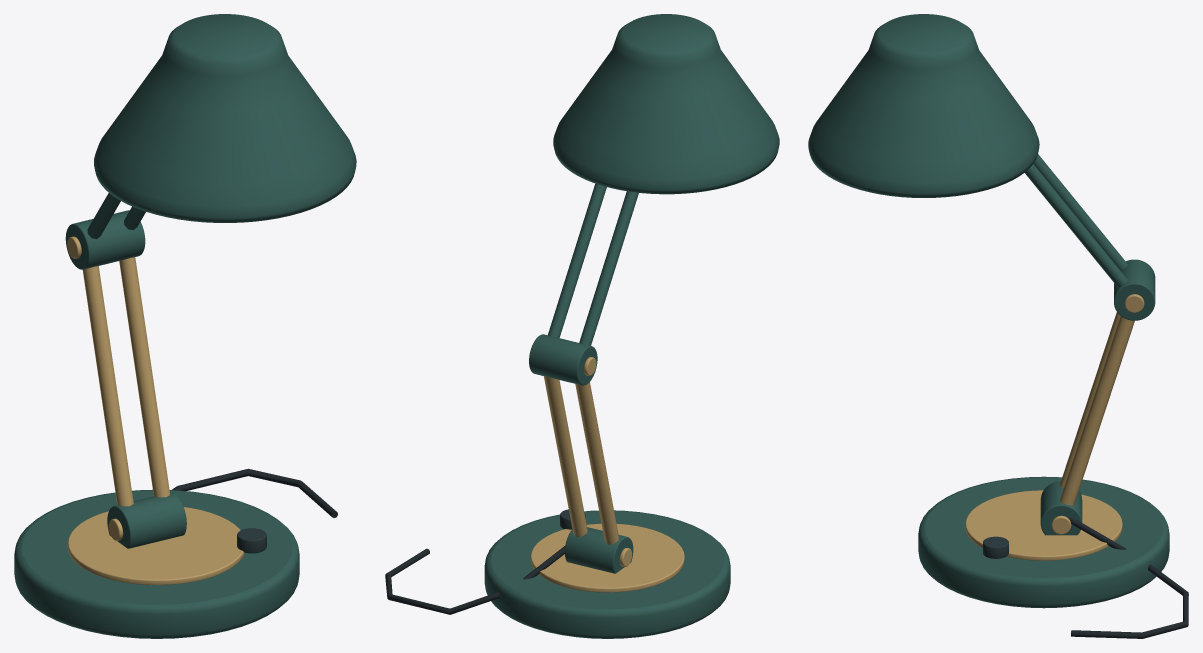
The model's file is task_lamp.glb.
The picture shows the model from 3 angles, left to right: view 1: azimuth 30°, elevation 25°; view 2: azimuth 150°, elevation 25°; view 3: azimuth 270°, elevation 25°; orthographic projection. The views are drawn at different scales.
Visible parts, largest first — view 1: Enamel_pine, Brass_satin, Rubber, Charcoal_soft; view 2: Enamel_pine, Brass_satin, Rubber; view 3: Enamel_pine, Brass_satin, Rubber.
Part boxes in pixels (left/top/right/bottom): Enamel_pine: left=14, top=14, right=356, bottom=638; Brass_satin: left=67, top=236, right=244, bottom=584; Rubber: left=172, top=468, right=337, bottom=517; Charcoal_soft: left=237, top=528, right=266, bottom=553; Enamel_pine: left=484, top=14, right=779, bottom=638; Brass_satin: left=530, top=357, right=684, bottom=592; Rubber: left=385, top=546, right=565, bottom=614; Enamel_pine: left=808, top=14, right=1169, bottom=608; Brass_satin: left=965, top=294, right=1144, bottom=560; Rubber: left=1068, top=517, right=1188, bottom=638.
Size of the model in its own units: 0.3028 by 0.53 by 0.3487.
